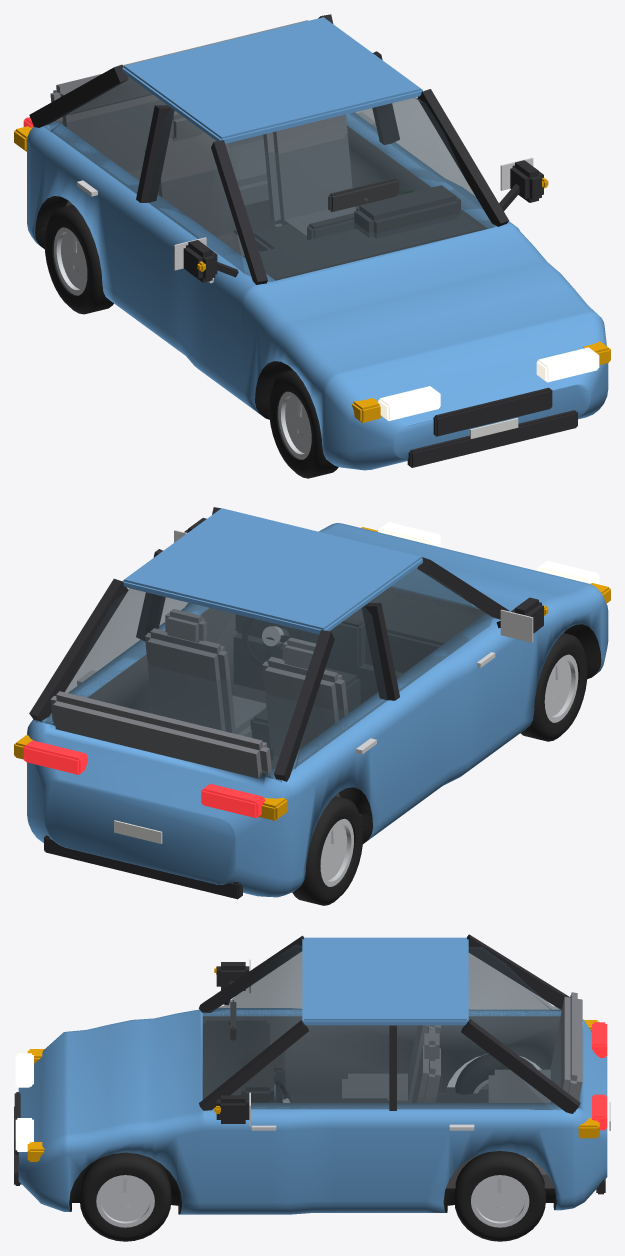
Rendered from hatch.glb.
3 views of the same model, one above another, from view 1: azimuth 30°, elevation 25°; view 2: azimuth 150°, elevation 25°; view 3: azimuth 270°, elevation 25° (orthographic). The views are drawn at different scales.
Visible parts, largest first — view 1: Body, Glass, Int_Seats, Roof, Int_Dash, Pillars, Trim, Wheel_RR, Wheel_FR, Head_L, Head_R, Int_Carpet; view 2: Body, Glass, Int_Seats, Roof, Int_Dash, Pillars, Wheel_RR, Wheel_FR, Trim, Tail_L, Tail_R, SteeringWheel (+3 smaller); view 3: Body, Glass, Roof, Pillars, Int_Seats, Wheel_RL, Wheel_FL, Int_Dash, Trim, Wheel_RR, Int_Carpet, Head_R (+3 smaller).
Boxes of the visible parts, bbox=[...] form: Body: bbox=[27, 112, 608, 470]; Glass: bbox=[43, 20, 496, 281]; Int_Seats: bbox=[50, 74, 356, 255]; Roof: bbox=[122, 17, 422, 143]; Int_Dash: bbox=[243, 177, 481, 280]; Pillars: bbox=[29, 14, 509, 284]; Trim: bbox=[77, 112, 577, 467]; Wheel_RR: bbox=[44, 204, 113, 314]; Wheel_FR: bbox=[269, 370, 338, 478]; Head_L: bbox=[536, 347, 599, 382]; Head_R: bbox=[378, 386, 440, 420]; Int_Carpet: bbox=[47, 200, 276, 235]; Body: bbox=[27, 523, 608, 897]; Glass: bbox=[36, 567, 495, 782]; Int_Seats: bbox=[50, 609, 347, 778]; Roof: bbox=[122, 508, 422, 634]; Int_Dash: bbox=[234, 593, 480, 759]; Pillars: bbox=[29, 507, 509, 781]; Wheel_RR: bbox=[292, 796, 363, 905]; Wheel_FR: bbox=[520, 633, 587, 741]; Trim: bbox=[44, 518, 543, 899]; Tail_L: bbox=[23, 740, 87, 774]; Tail_R: bbox=[201, 783, 265, 818]; SteeringWheel: bbox=[242, 617, 303, 667]; Body: bbox=[18, 1008, 607, 1214]; Glass: bbox=[202, 944, 575, 1112]; Roof: bbox=[302, 937, 468, 1025]; Pillars: bbox=[199, 934, 580, 1113]; Int_Seats: bbox=[342, 992, 582, 1174]; Wheel_RL: bbox=[454, 1151, 545, 1241]; Wheel_FL: bbox=[79, 1152, 171, 1241]; Int_Dash: bbox=[203, 1000, 388, 1102]; Trim: bbox=[14, 962, 610, 1194]; Wheel_RR: bbox=[455, 1054, 535, 1094]; Int_Carpet: bbox=[289, 1087, 554, 1188]; Head_R: bbox=[15, 1053, 33, 1087].
Bounding box in the file's own units: 2.26 × 1.52 × 3.9.
